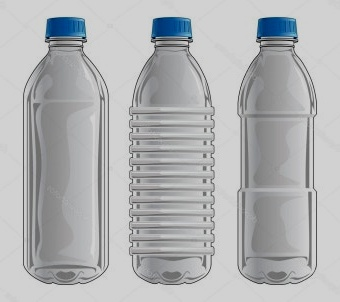plastic: (236, 11, 339, 284), (21, 13, 122, 287)
